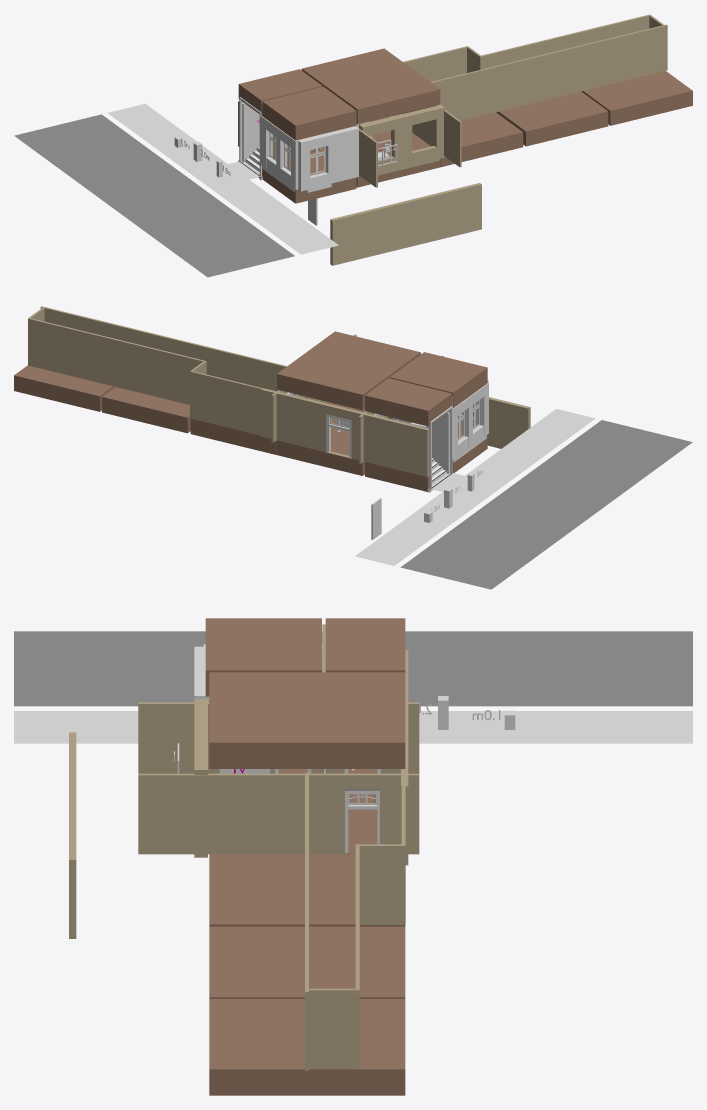
File: museu fundation73.fbx
3 renders of one model, top to bottom at view 1: azimuth 30°, elevation 25°; view 2: azimuth 150°, elevation 25°; view 3: azimuth 270°, elevation 25°, orthographic. The views are drawn at different scales.
Parts seen in each view (by area): view 1: road, wall01.004, wall03, sidewalk, chesthall.001, chesthall.003, chesthall.004, signhall.001, Cube.038, wall01.007, chesthall.002, Cube.040 (+12 smaller); view 2: road, wall01.007, sidewalk, wall01.001, chesthall.001, wall01.004, wall01.005, entrancehall.001, signhall.001, chesthall.004, chesthall.003, chesthall (+9 smaller); view 3: road, wall01.003, chesthall.001, chesthall.004, chesthall.003, sidewalk, chesthall.002, signhall.001, wall01.002, entrancehall.001, wall01.008, wall01.006 (+6 smaller).
Boxes of the visible parts, box(x1,y1,x2,y2) form: road: box(14, 114, 294, 277); wall01.004: box(410, 24, 667, 132); wall03: box(330, 183, 481, 265); sidewalk: box(108, 103, 338, 254); chesthall.001: box(301, 48, 440, 124); chesthall.003: box(496, 91, 608, 146); chesthall.004: box(581, 71, 692, 125); signhall.001: box(262, 86, 356, 140); Cube.038: box(298, 126, 358, 191); wall01.007: box(480, 14, 650, 69); chesthall.002: box(393, 112, 523, 167); Cube.040: box(359, 104, 445, 167); road: box(400, 420, 692, 589); wall01.007: box(28, 318, 203, 404); sidewalk: box(355, 409, 595, 565); wall01.001: box(261, 388, 429, 476); chesthall.001: box(277, 331, 420, 410); wall01.004: box(40, 306, 308, 398); wall01.005: box(190, 371, 262, 435); entrancehall.001: box(365, 378, 451, 426); signhall.001: box(389, 352, 487, 408); chesthall.004: box(14, 365, 114, 411); chesthall.003: box(102, 387, 190, 433); chesthall: box(277, 402, 398, 475); road: box(14, 631, 692, 706); wall01.003: box(138, 773, 419, 854); chesthall.001: box(209, 672, 405, 768); chesthall.004: box(209, 999, 405, 1095); chesthall.003: box(209, 926, 405, 998); sidewalk: box(14, 711, 692, 743); chesthall.002: box(209, 853, 405, 926); signhall.001: box(205, 618, 321, 696); wall01.002: box(138, 702, 419, 773); entrancehall.001: box(325, 618, 405, 672); wall01.008: box(309, 988, 354, 1069); wall01.006: box(355, 844, 403, 924).
Size of the model in its own units: 6809 by 1736 by 4209.
